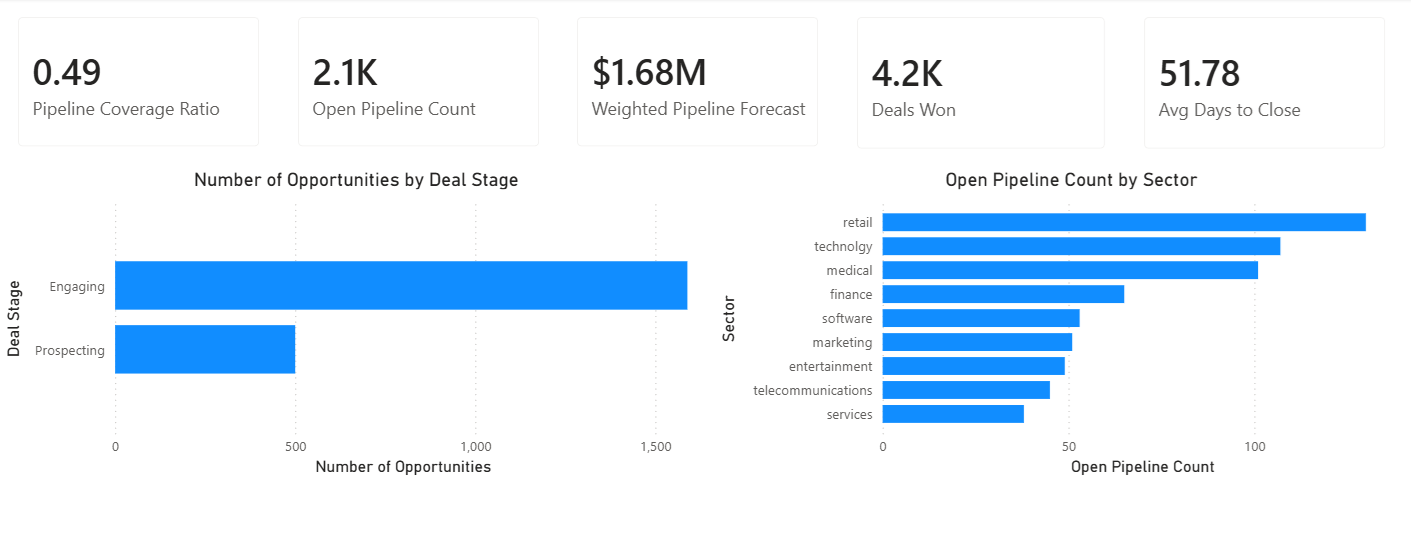

The dashboard page shown, as its layout file describes it:
{"tool":"powerbi","page":{"name":"Pipeline & Forecast","canvas":[1280,720],"ordinal":2},"visuals":[{"type":"cardVisual","fields":{"Data":["_Measures.Pipeline Coverage Ratio"]},"box":[0,0,250,150],"z":0},{"type":"cardVisual","fields":{"Data":["_Measures.Avg Days to Close"]},"box":[1008,0,250,152],"z":1000},{"type":"cardVisual","fields":{"Data":["_Measures.Deals Won"]},"box":[751.5,0,256,152],"z":2000},{"type":"cardVisual","fields":{"Data":["_Measures.Open Pipeline Count"]},"box":[250.5,0,250,150],"z":3000},{"type":"clusteredBarChart","fields":{"Category":["sales_pipeline.deal_stage"],"Y":["CountNonNull(sales_pipeline.opportunity_id)"]},"box":[0,152,640,280],"z":4000},{"type":"clusteredBarChart","fields":{"Category":["accounts.sector"],"Y":["_Measures.Open Pipeline Count"]},"box":[640,152,640,280],"z":5000},{"type":"cardVisual","fields":{"Data":["_Measures.Weighted Pipeline Forecast"]},"box":[501,0,250,150],"z":6000}]}

Visuals, with their boxes on the page's 1280x720 design canvas (x1, y1, x2, y2). These are canvas units, not pixel positions in the 1411x544 screenshot, which may show the page scaled, cropped or inside an application window:
cardVisual - _Measures.Pipeline Coverage Ratio: 0, 0, 250, 150
cardVisual - _Measures.Avg Days to Close: 1008, 0, 1258, 152
cardVisual - _Measures.Deals Won: 752, 0, 1008, 152
cardVisual - _Measures.Open Pipeline Count: 250, 0, 500, 150
clusteredBarChart - sales_pipeline.deal_stage x CountNonNull(sales_pipeline.opportunity_id): 0, 152, 640, 432
clusteredBarChart - accounts.sector x _Measures.Open Pipeline Count: 640, 152, 1280, 432
cardVisual - _Measures.Weighted Pipeline Forecast: 501, 0, 751, 150
